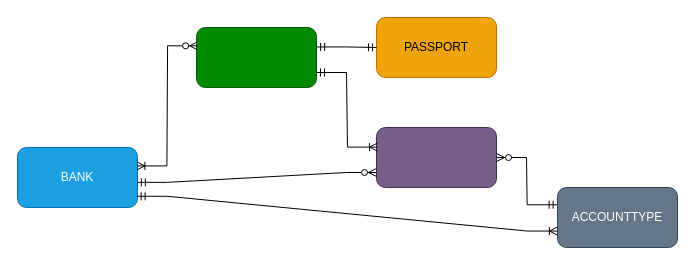
Image size: 695x265. Some labels were removed from this diagram. Each missing label, with the centre of its shape:
ACCOUNT: point 436,157
USER: point 256,57
